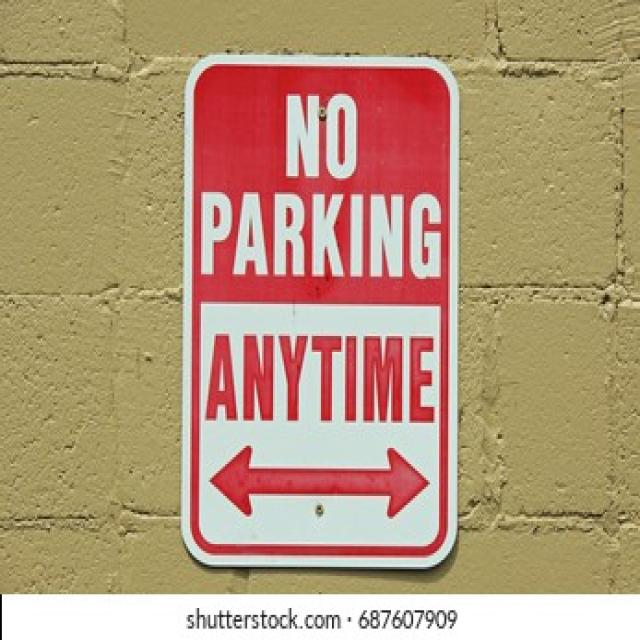Traffic sign: (199, 88, 450, 292)
